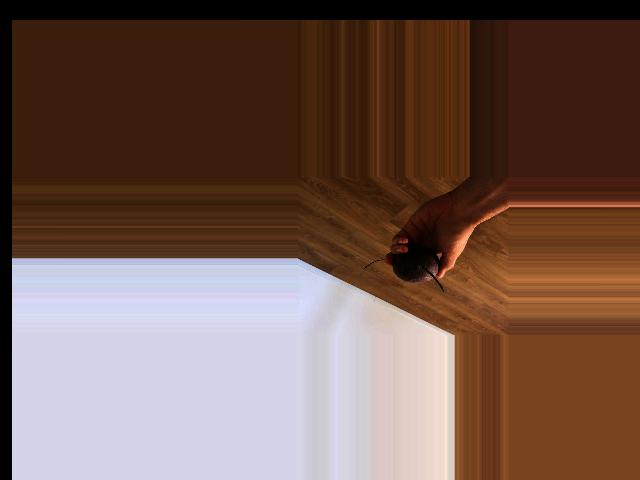beet: (363, 245, 443, 291)
